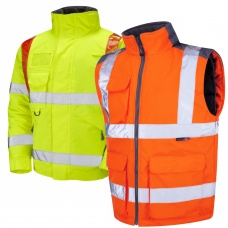safety vest: (91, 21, 216, 225), (12, 10, 110, 179)
